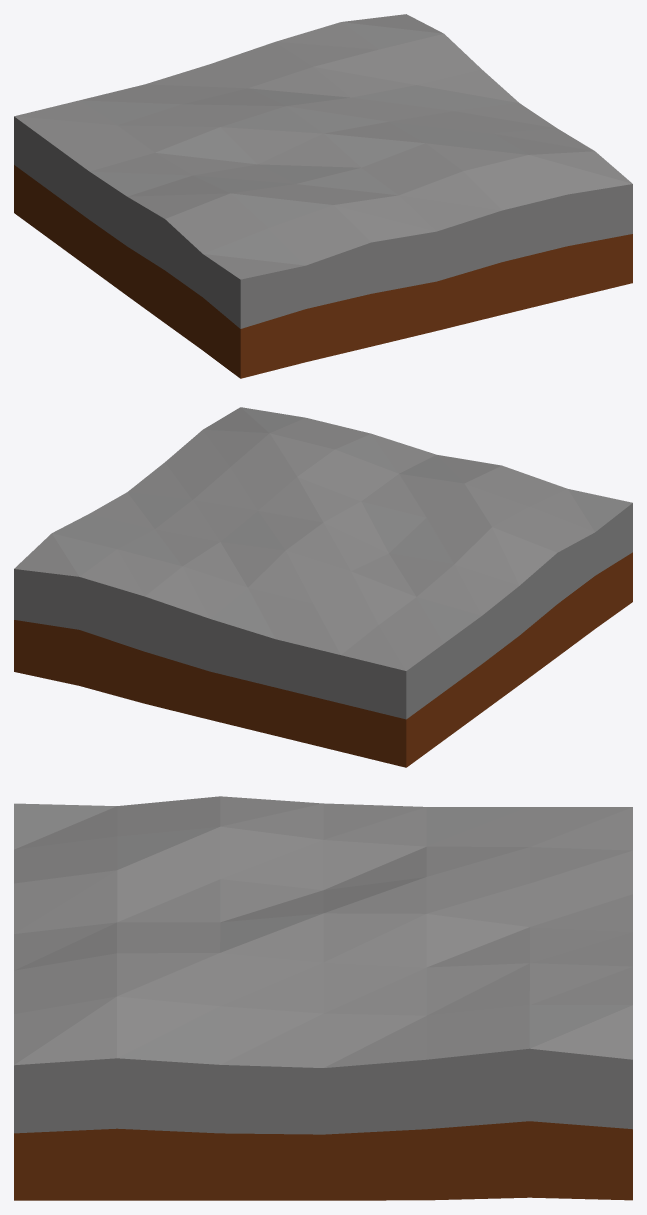
The model's file is TILE_neutre1b.fbx.
3 views of the same model, one above another, from view 1: azimuth 30°, elevation 25°; view 2: azimuth 150°, elevation 25°; view 3: azimuth 270°, elevation 25° (orthographic). The views are drawn at different scales.
Parts seen in each view (by area): view 1: tile_base; view 2: tile_base; view 3: tile_base.
Part boxes in pixels (bbox=[...]): tile_base: bbox=[14, 14, 632, 378]; tile_base: bbox=[14, 407, 632, 767]; tile_base: bbox=[14, 796, 632, 1200].
Bounding box in the file's own units: 5 × 1.42 × 5.
